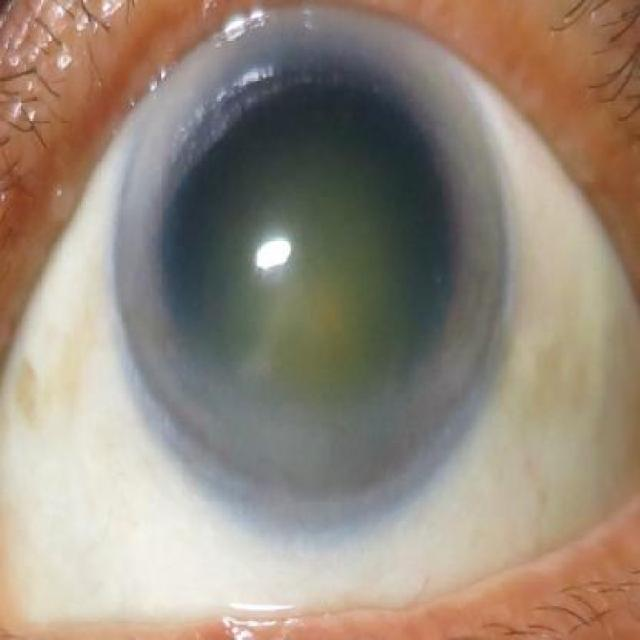Cataract: (114, 10, 510, 533)
